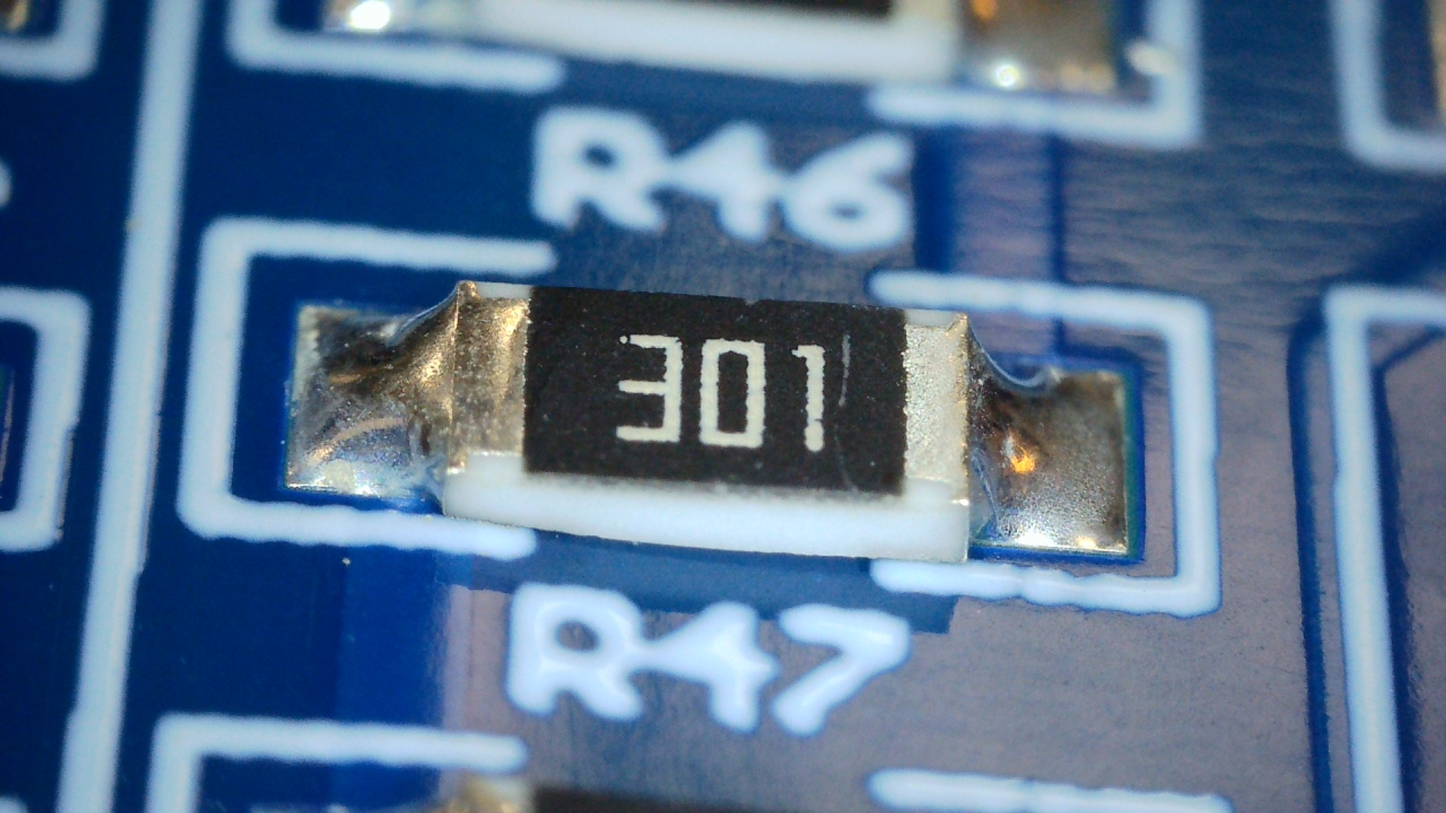OK: (926, 309, 1125, 551), (303, 284, 526, 492)
